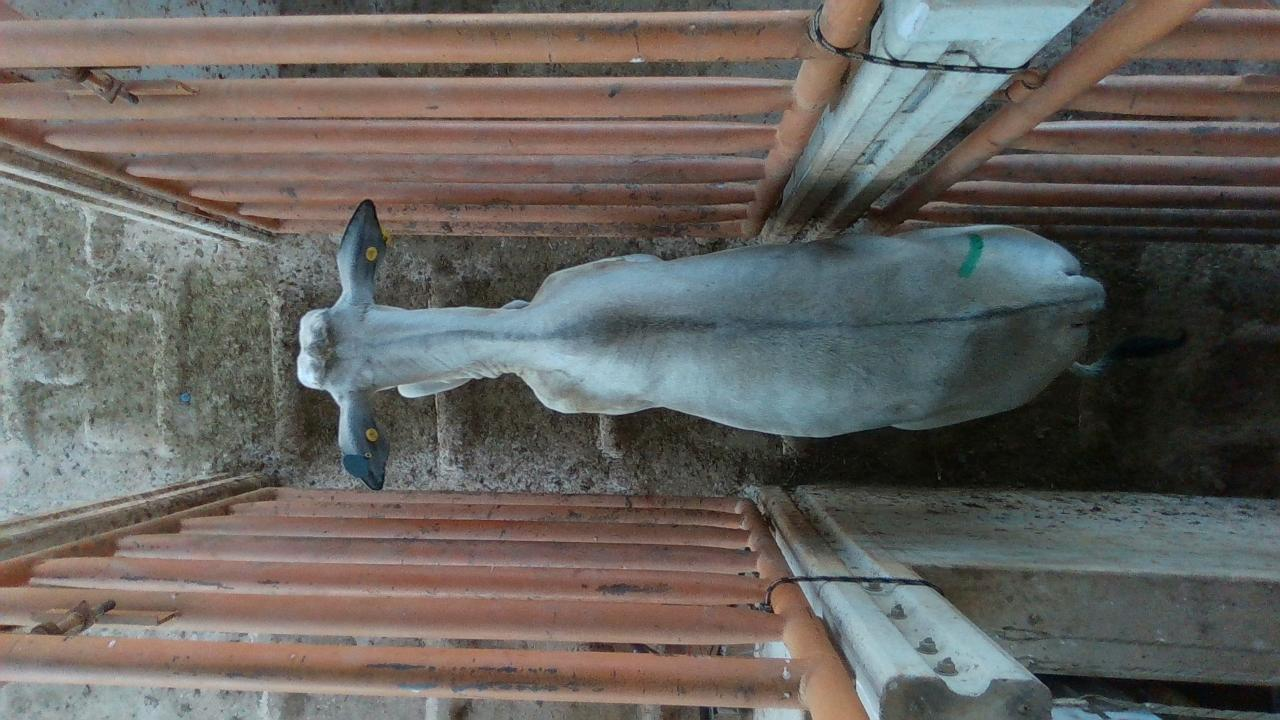cattle: (294, 196, 1107, 489)
